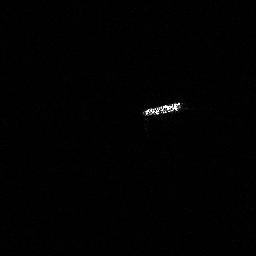ship: (140, 99, 184, 118)
